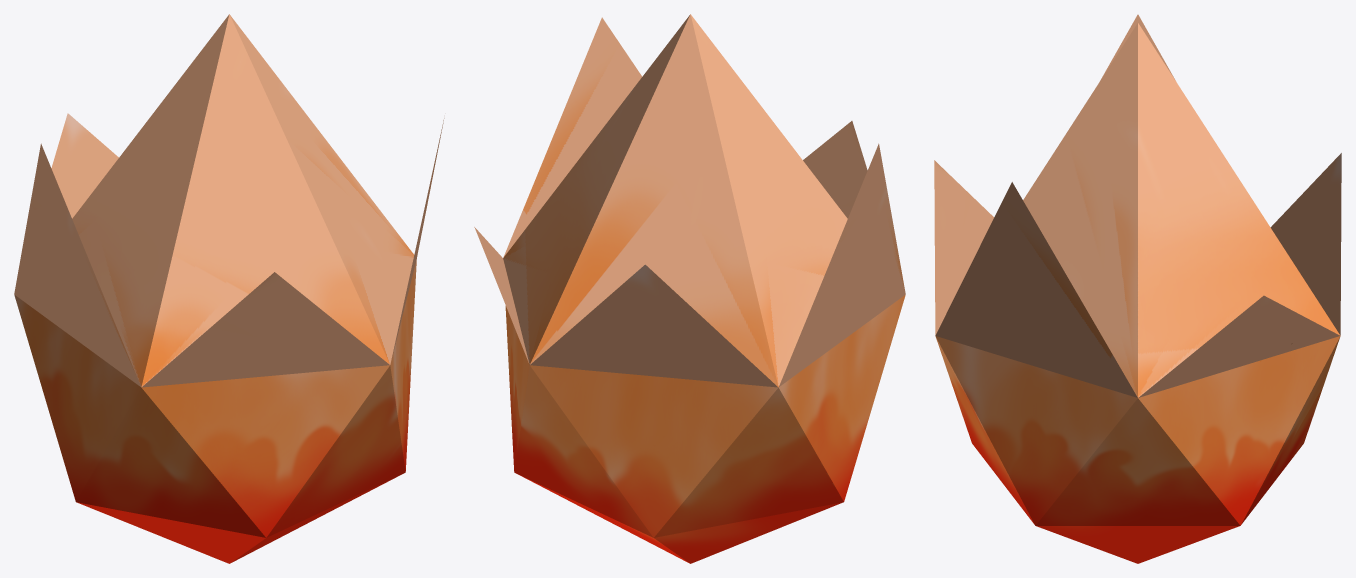
File: projectile.fbx
The picture shows the model from 3 angles, left to right: view 1: azimuth 30°, elevation 25°; view 2: azimuth 150°, elevation 25°; view 3: azimuth 270°, elevation 25°; orthographic projection.
Parts seen in each view (by area): view 1: Icosphere; view 2: Icosphere; view 3: Icosphere.
Boxes of the visible parts, left/top/right/bottom form: Icosphere: left=14, top=14, right=444, bottom=563; Icosphere: left=474, top=14, right=905, bottom=563; Icosphere: left=934, top=14, right=1341, bottom=563.
Size of the model in its own units: 219 by 306 by 209.
1 material, 1 textured.
